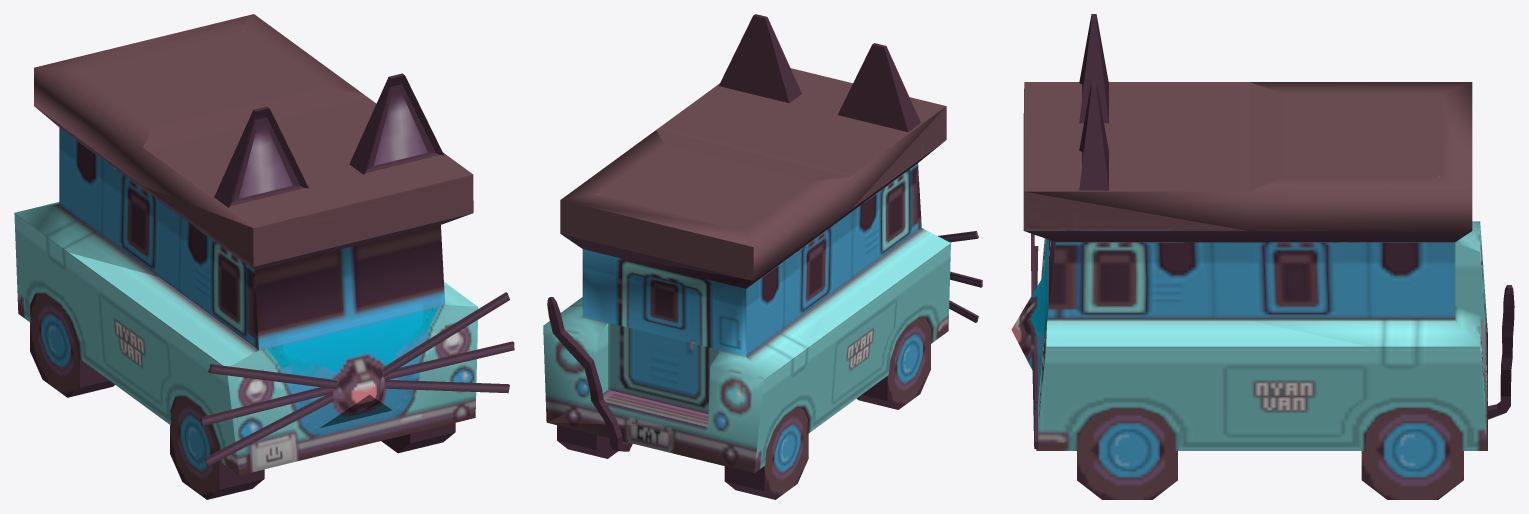
The model's file is nyan van(Old).fbx.
3 renders of one model, left to right at view 1: azimuth 30°, elevation 25°; view 2: azimuth 150°, elevation 25°; view 3: azimuth 270°, elevation 25°, orthographic. The views are drawn at different scales.
Visible parts, largest first — view 1: nyan van; view 2: nyan van; view 3: nyan van.
Part boxes in pixels (bbox=[...]): nyan van: bbox=[14, 14, 514, 499]; nyan van: bbox=[543, 14, 982, 499]; nyan van: bbox=[1011, 14, 1514, 499].
Size of the model in its own units: 2649 by 3094 by 3618.
